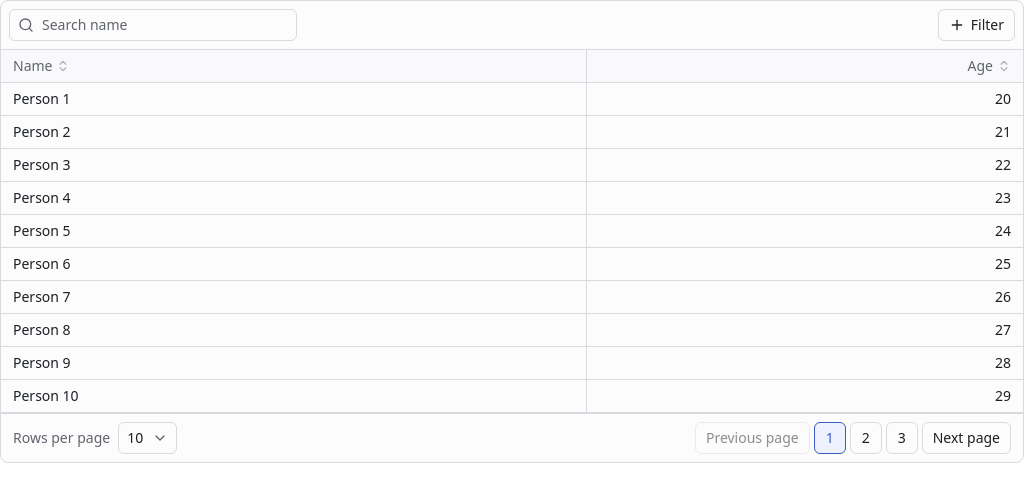
Scenario: Table basic search › keeps the search input available when a query matches nothing
Expected: the text "Person 1" is shown, [1,83,587,116]
Type "zzz" into the search field labelled "Search".
click(165, 25); type("zzz")  # box [42,15,288,35]
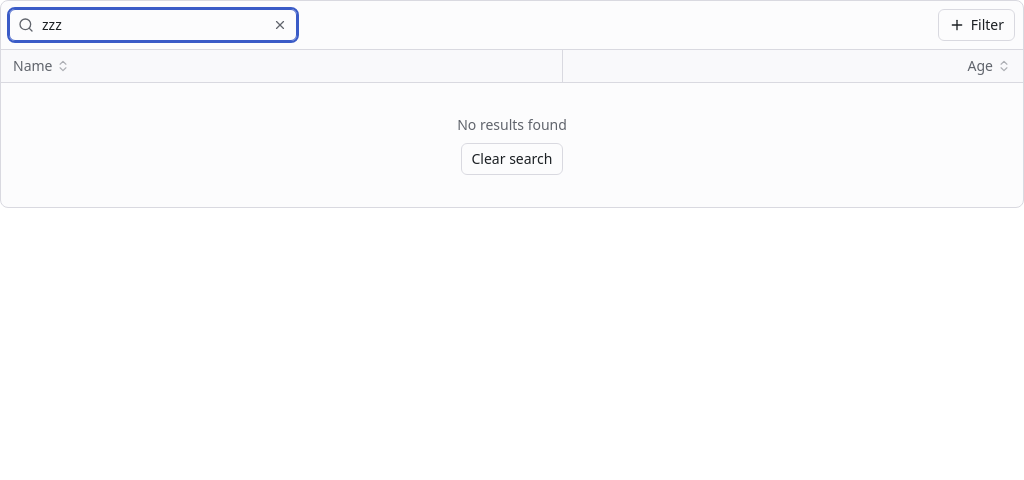
Now the text "No results found" is shown, box [457,115,567,135]
